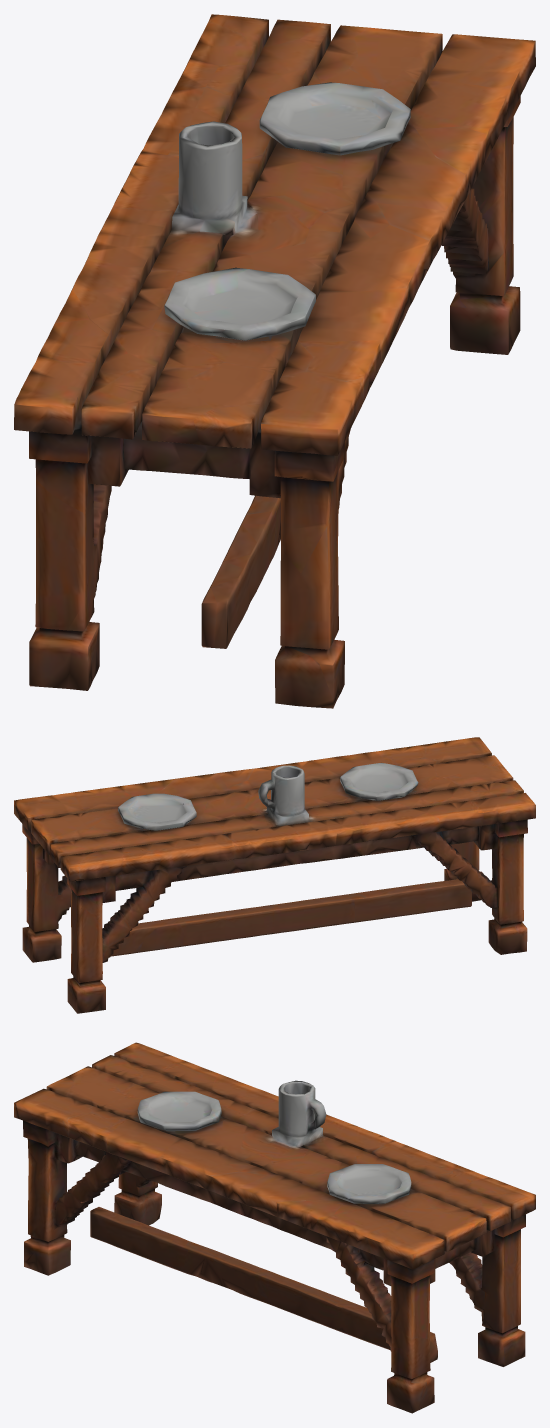
The model's file is long-table.glb.
3 views of the same model, one above another, from view 1: azimuth 30°, elevation 25°; view 2: azimuth 150°, elevation 25°; view 3: azimuth 270°, elevation 25° (orthographic). The views are drawn at different scales.
Parts seen in each view (by area): view 1: tripo_node_a1cdc6df-ab0f-44ba-bd9b-951058213fed; view 2: tripo_node_a1cdc6df-ab0f-44ba-bd9b-951058213fed; view 3: tripo_node_a1cdc6df-ab0f-44ba-bd9b-951058213fed.
Part boxes in pixels (x1,y1,x2,y2): tripo_node_a1cdc6df-ab0f-44ba-bd9b-951058213fed: [14, 14, 535, 708]; tripo_node_a1cdc6df-ab0f-44ba-bd9b-951058213fed: [14, 737, 535, 1013]; tripo_node_a1cdc6df-ab0f-44ba-bd9b-951058213fed: [14, 1042, 535, 1413].
Bounding box in the file's own units: 0.9641 × 0.4465 × 1.
Materials: 1 (1 with a texture image).
